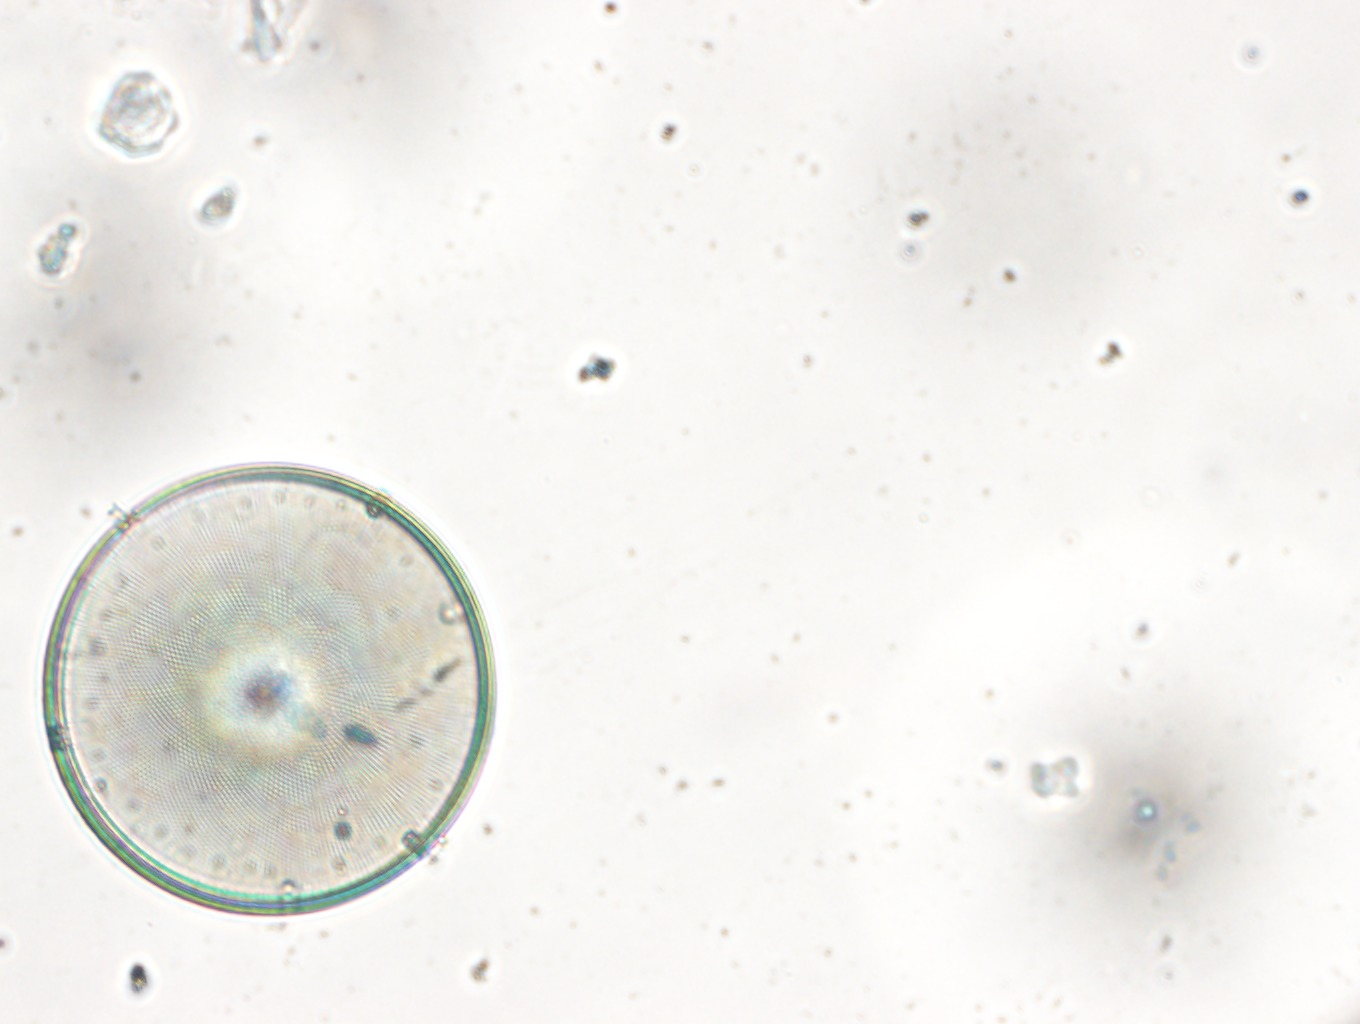coscinodiscus: (40, 463, 495, 918)
